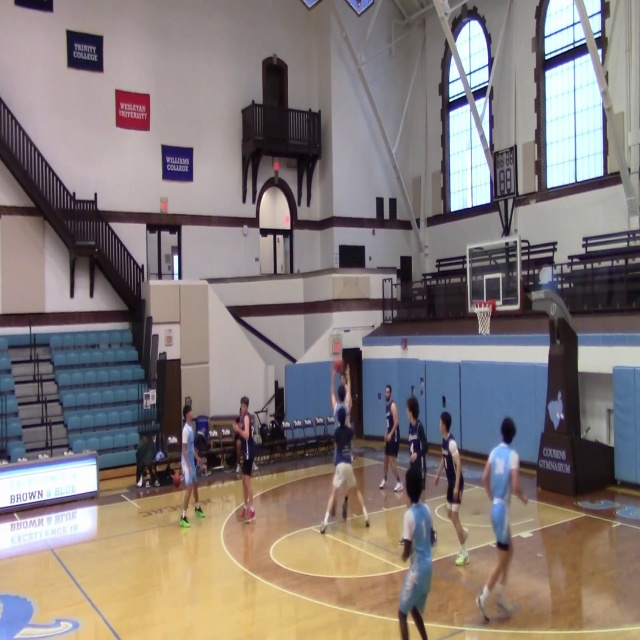Basketball: (333, 359, 344, 373), (337, 384, 346, 399), (172, 473, 180, 486)
